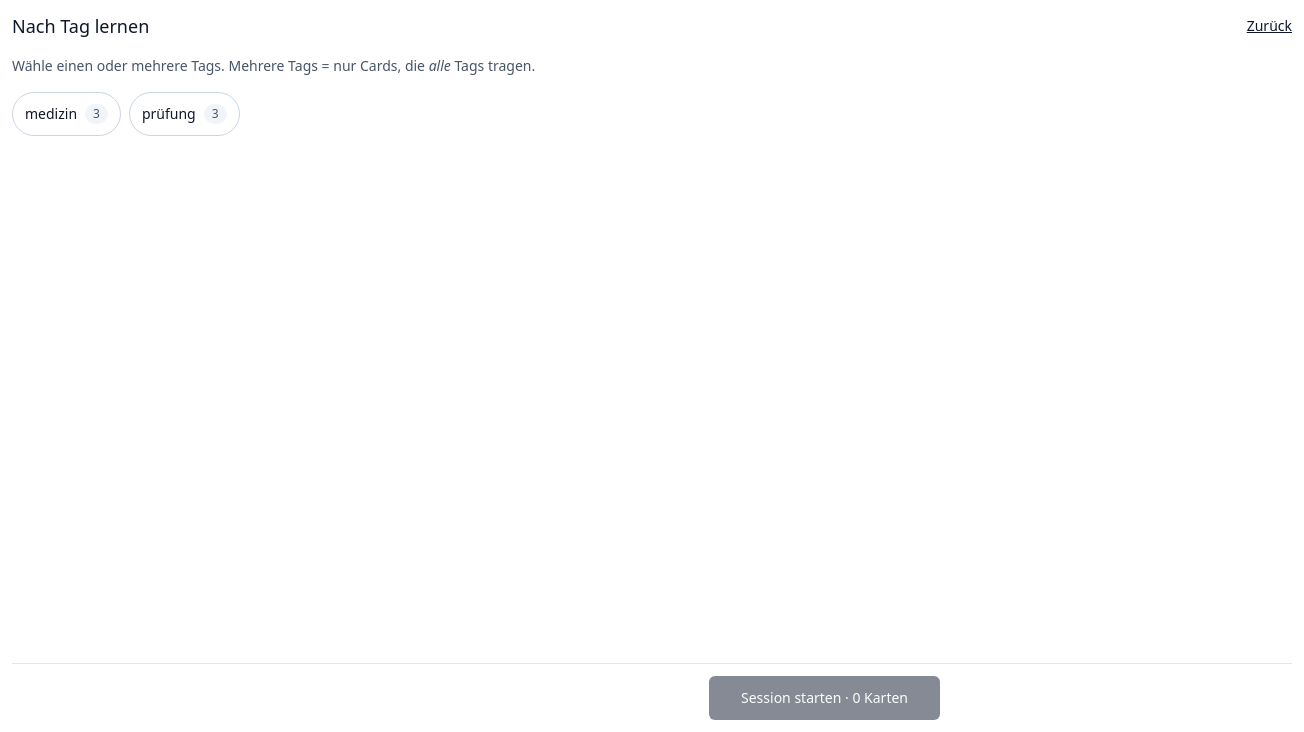
Test: TagPickerPage › updates the live AND-count on other chips when a tag is selected
Check: the button "medizin 3" is shown, box [12,92,121,136]
What coordinates should you click on to do the following:
click the button "prüfung 3"
I would click on:
 (184, 114)
Its box is [129,92,240,136].
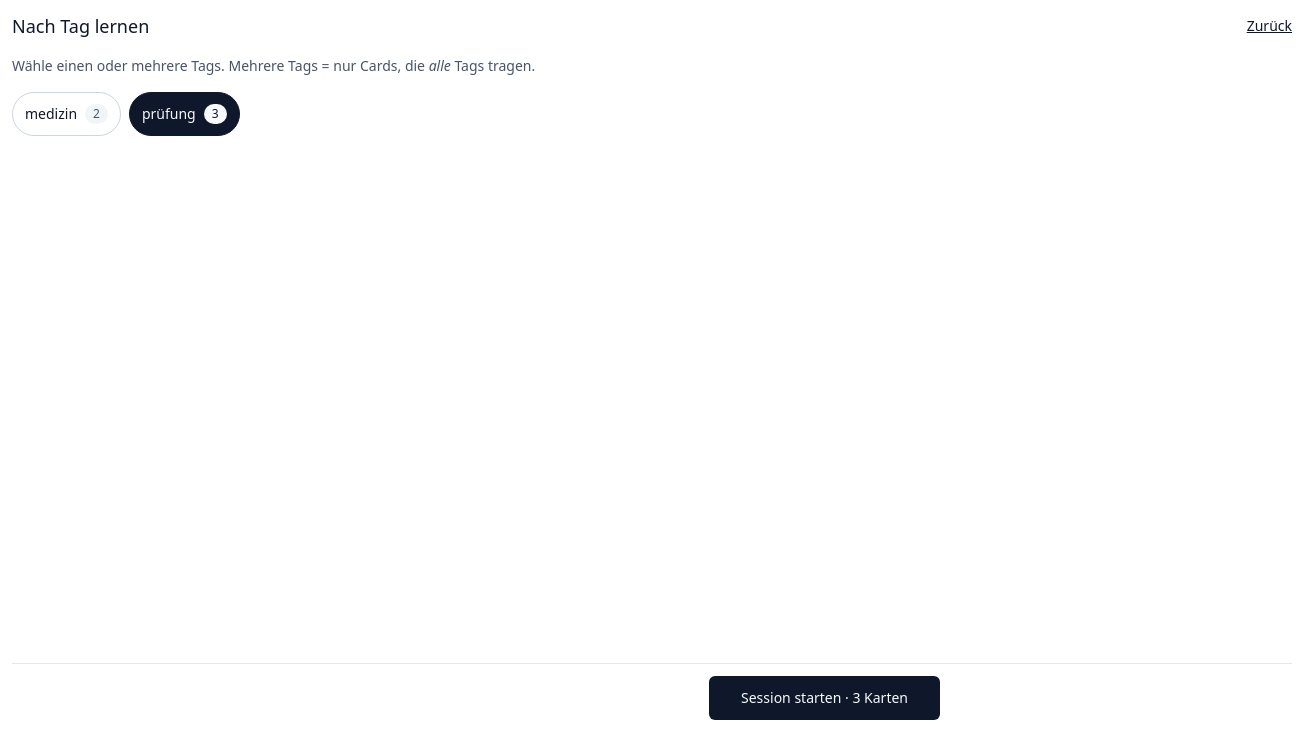
Check: the button "medizin 2" is shown, box [12,92,121,136]
